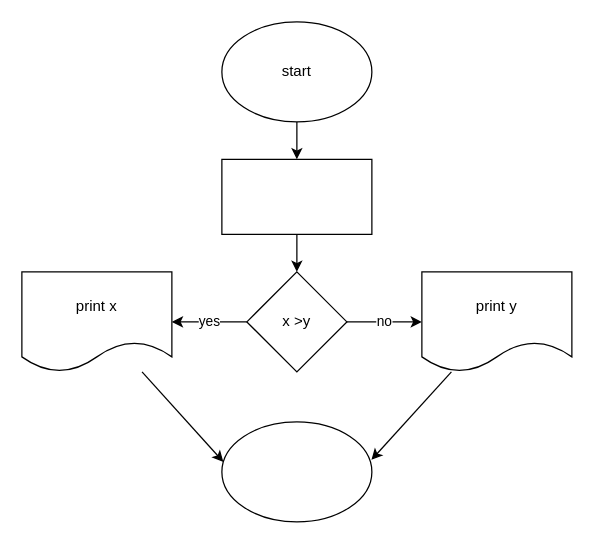
The diagram is 594 pixels wide and 544 high, and some of its shapes have lost their labels. The shapes that lost their labels are listed below. From the top down, each one's centre as x and y in pixels, then its label:
the point at 296,196: x = ввод в консоль y = ввод в консоль
the point at 296,471: end
